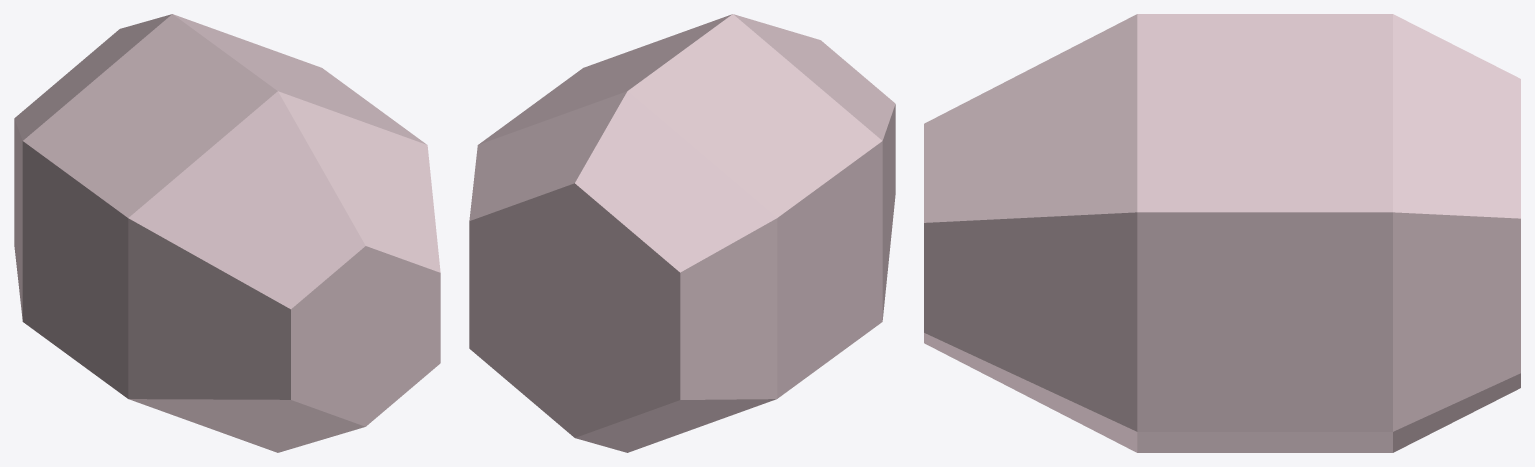
The model's file is PeeledHardBoiledEgg.obj.
3 views of the same model, side by side, from view 1: azimuth 30°, elevation 25°; view 2: azimuth 150°, elevation 25°; view 3: azimuth 270°, elevation 25° (orthographic). The views are drawn at different scales.
Visible parts, largest first — view 1: egg; view 2: egg; view 3: egg.
Boxes of the visible parts, <box> form: egg: <box>14,14,440,452</box>; egg: <box>469,14,895,452</box>; egg: <box>924,14,1520,452</box>.
Bounding box in the file's own units: 0.1058 × 0.1222 × 0.1505.
